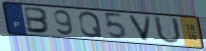5: (102, 11, 128, 41)
9: (53, 9, 75, 36)
B: (23, 6, 52, 35)
Q: (77, 11, 104, 39)
U: (152, 15, 183, 46)
V: (126, 13, 154, 43)
